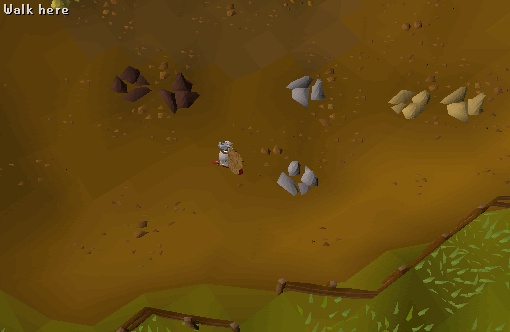clay: (384, 78, 435, 128), (438, 78, 489, 128)
iron: (154, 69, 207, 120), (106, 60, 159, 111)
tin: (271, 152, 326, 203), (279, 59, 334, 110)
